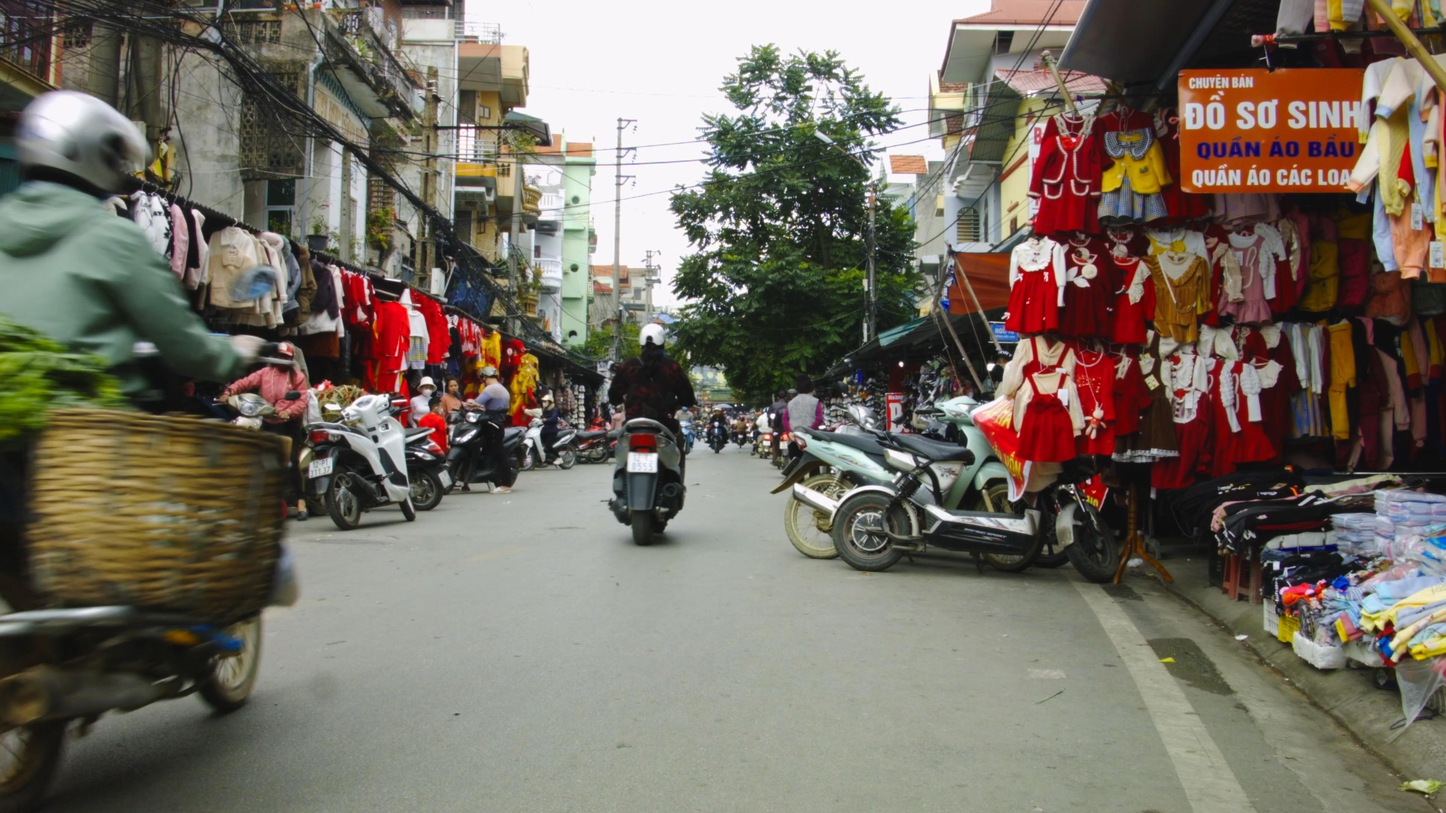driver: (0, 86, 296, 809), (600, 322, 704, 547), (704, 407, 729, 453)
helmet: (16, 86, 146, 212), (639, 323, 666, 356), (479, 366, 498, 387), (541, 395, 554, 408)
no-helmet: (417, 376, 437, 397), (428, 397, 443, 416), (446, 377, 459, 395)
